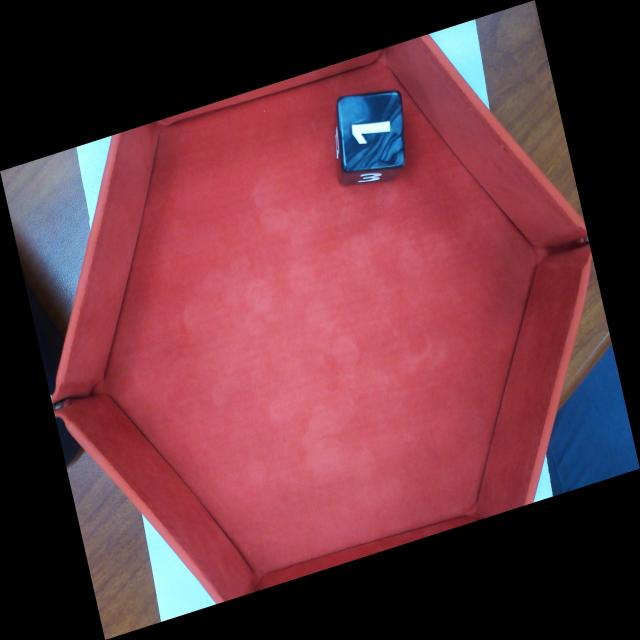dice: (335, 88, 409, 173)
